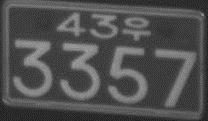3: (59, 41, 101, 101), (13, 38, 53, 99), (89, 12, 119, 39)
4: (55, 11, 86, 38)
5: (107, 44, 148, 105)
7: (153, 47, 198, 107)
우: (122, 15, 151, 41)
